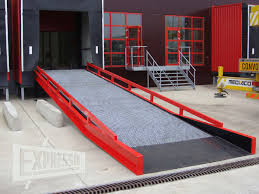Yard Ramp: (34, 63, 259, 177)
